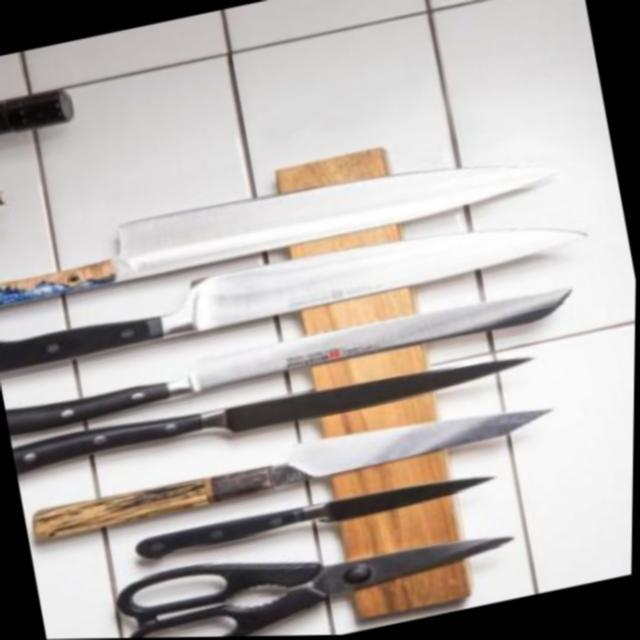weapon: (0, 123, 561, 321), (0, 211, 598, 380), (6, 288, 584, 442), (14, 338, 538, 488), (29, 399, 557, 546), (137, 458, 499, 572)
